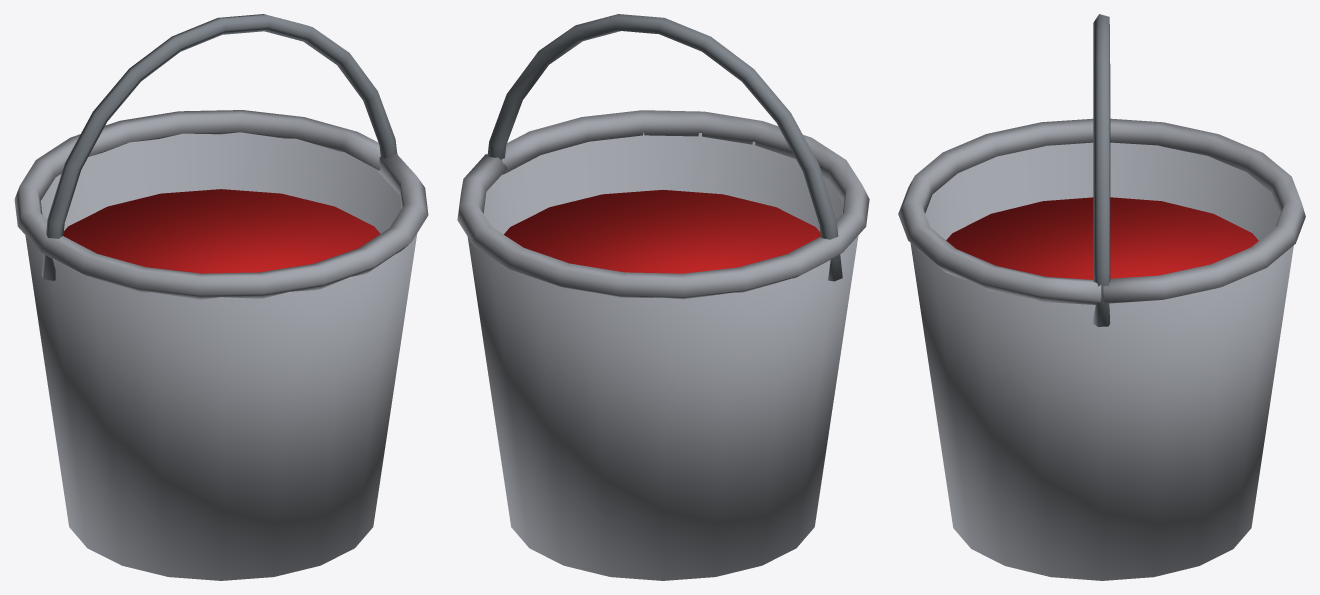
The model's file is red_paint.glb.
3 views of the same model, side by side, from view 1: azimuth 30°, elevation 25°; view 2: azimuth 150°, elevation 25°; view 3: azimuth 270°, elevation 25° (orthographic).
Visible parts, largest first — view 1: red_paint_v0; view 2: red_paint_v0; view 3: red_paint_v0.
Boxes of the visible parts, left/top/right/bottom form: red_paint_v0: left=14, top=14, right=428, bottom=580; red_paint_v0: left=457, top=14, right=869, bottom=580; red_paint_v0: left=898, top=14, right=1305, bottom=580.
Bounding box in the file's own units: 0.2696 × 0.3556 × 0.2693.
